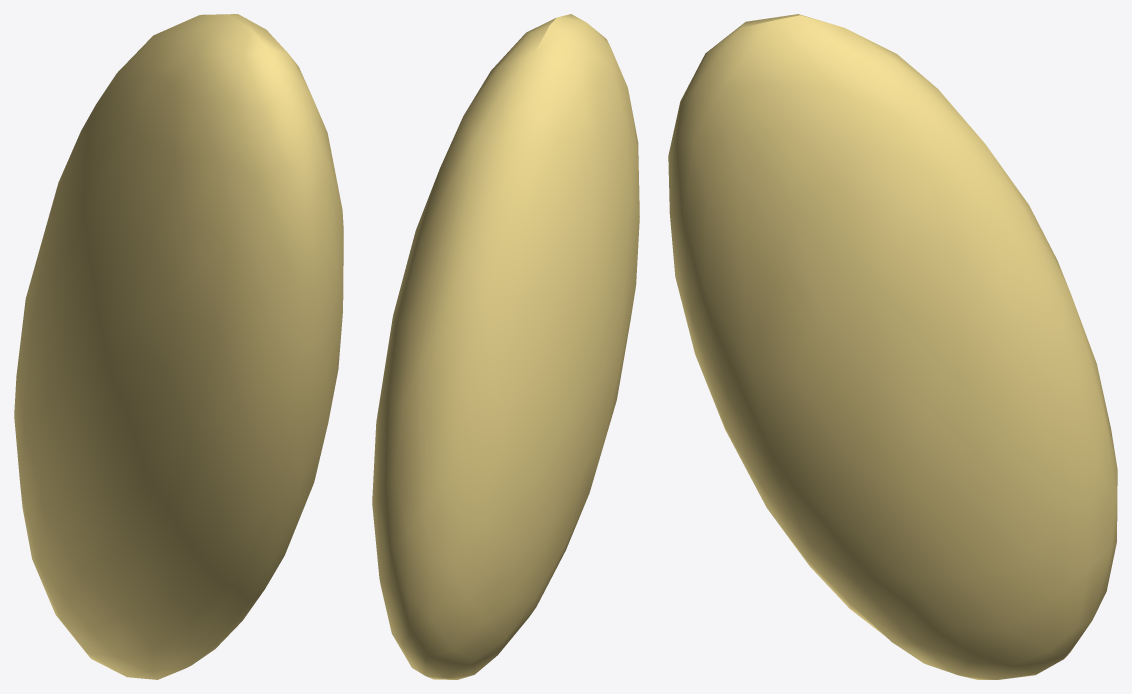
Rendered from fma73737_mm2701m.glb.
3 views of the same model, side by side, from view 1: azimuth 30°, elevation 25°; view 2: azimuth 150°, elevation 25°; view 3: azimuth 270°, elevation 25° (orthographic). The views are drawn at different scales.
Visible parts, largest first — view 1: FMA73737_MM2701M; view 2: FMA73737_MM2701M; view 3: FMA73737_MM2701M.
Boxes of the visible parts, <box> form: FMA73737_MM2701M: <box>14,14,343,679</box>; FMA73737_MM2701M: <box>372,14,639,679</box>; FMA73737_MM2701M: <box>668,14,1117,679</box>.
Size of the model in its own units: 0.00326 by 0.0103 by 0.00635.
